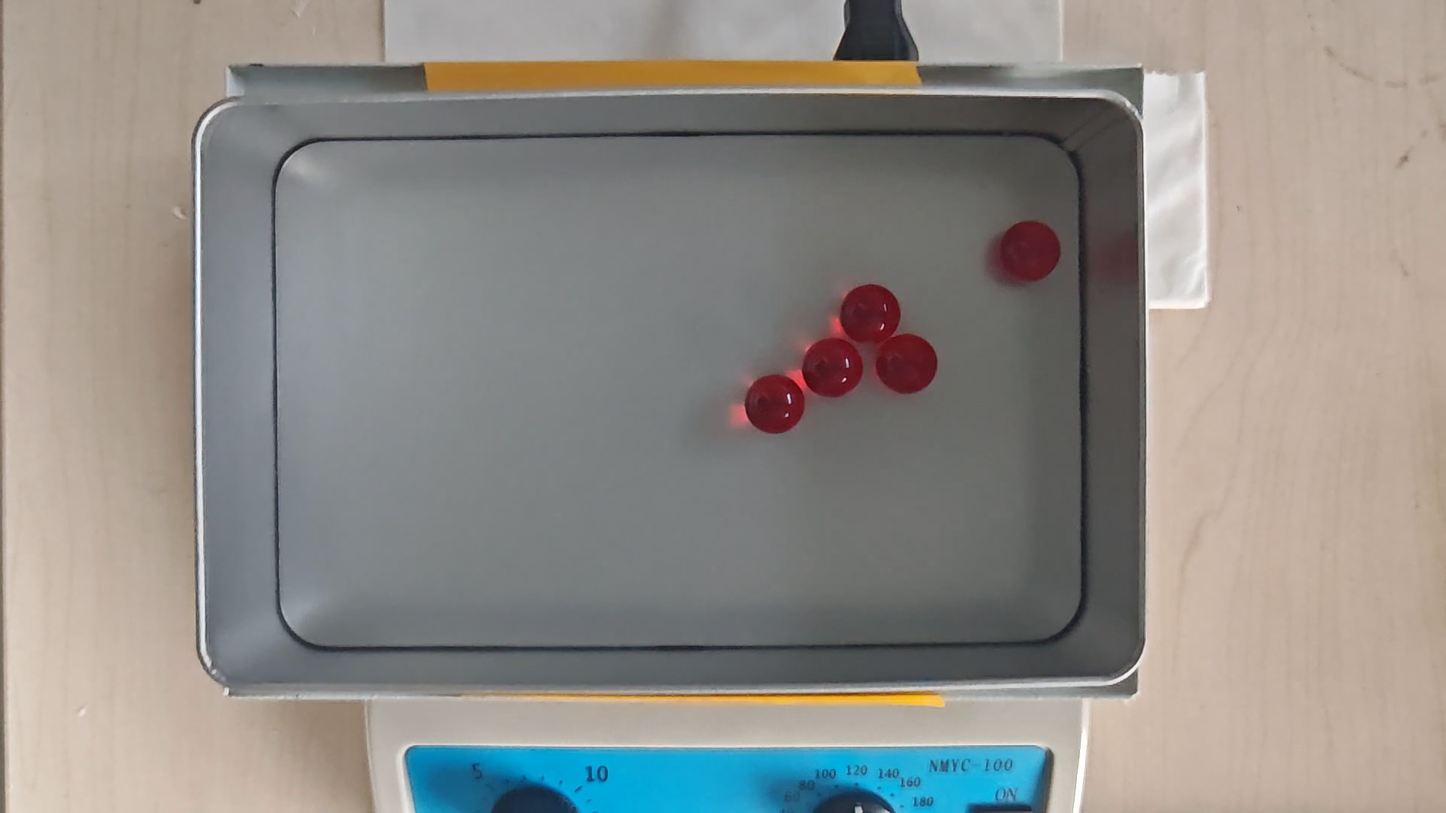ball: (1002, 221, 1060, 284), (841, 283, 900, 343), (878, 333, 936, 394), (804, 340, 863, 399), (747, 373, 804, 434)
container: (270, 132, 1085, 649)
